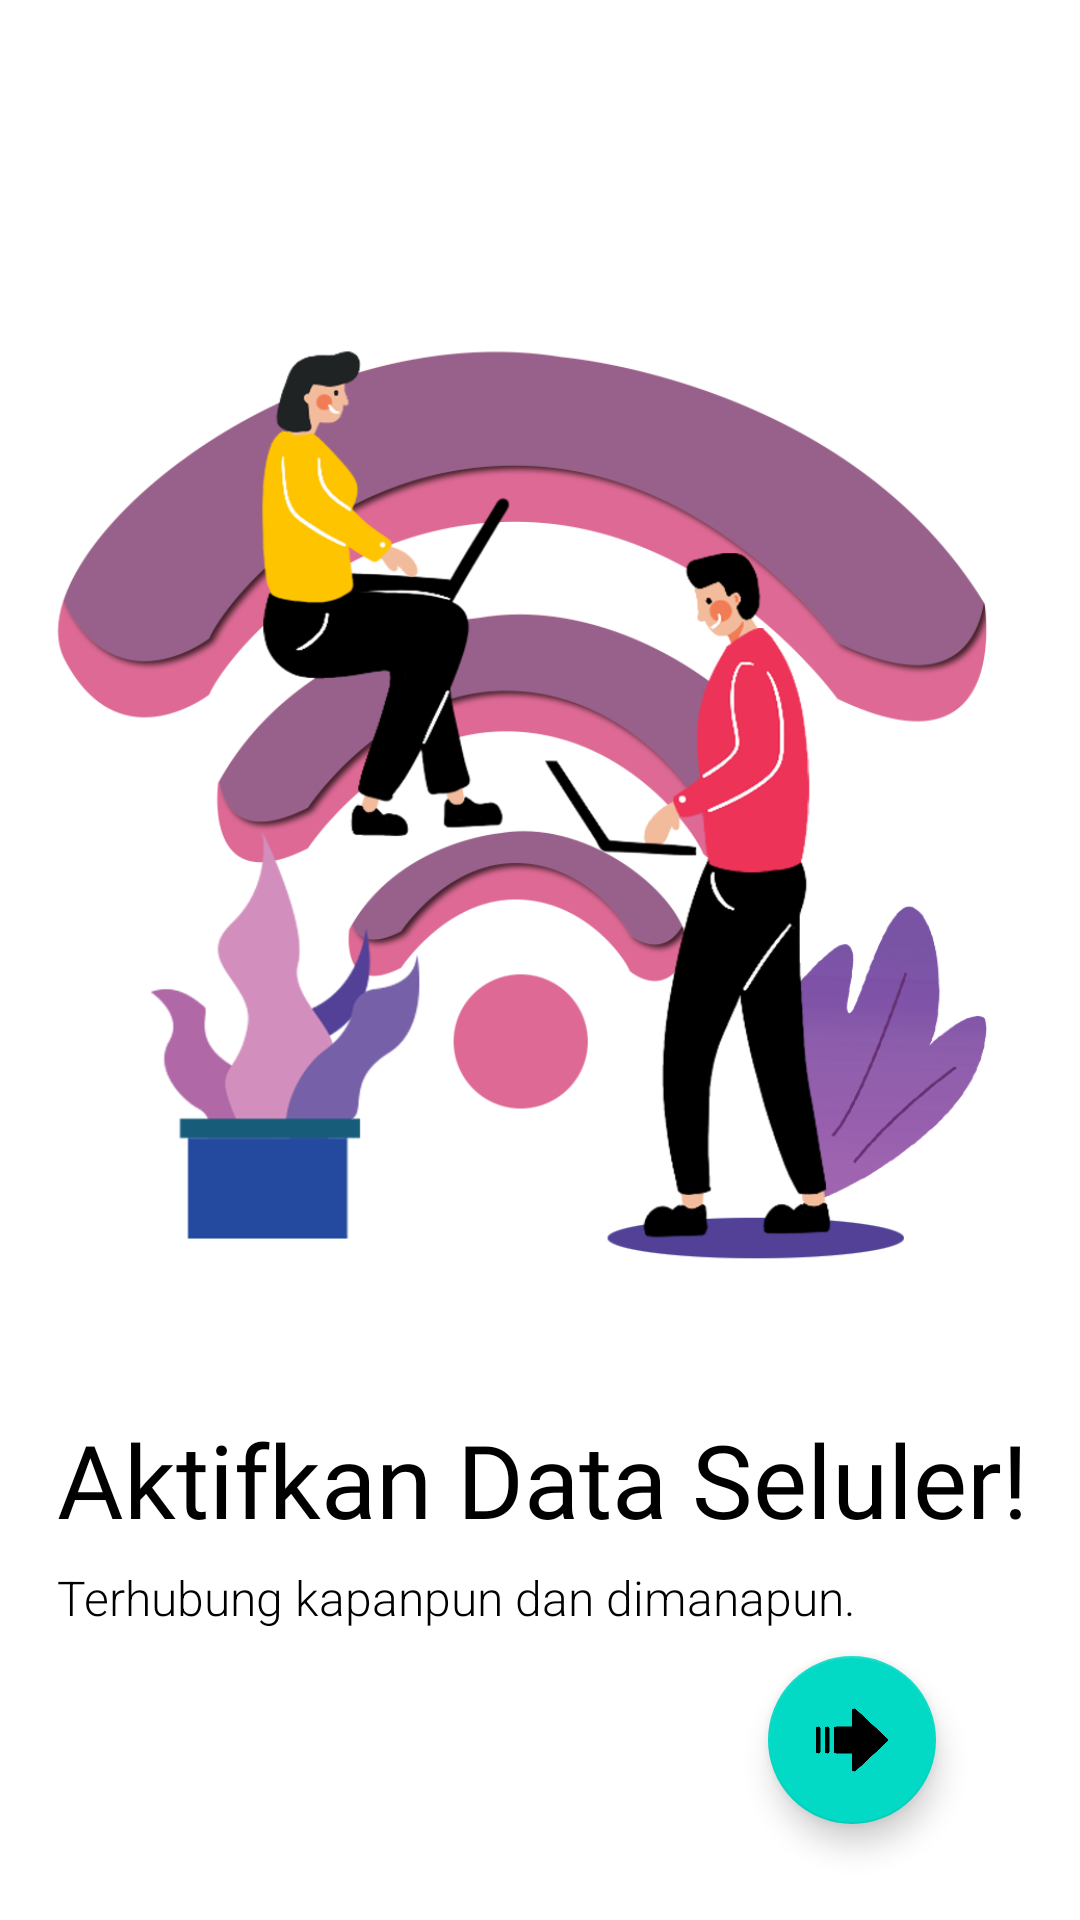

Screen size 1080*1920. Icon name, then its center in pixels as [x,y]:
next: [852,1740]
